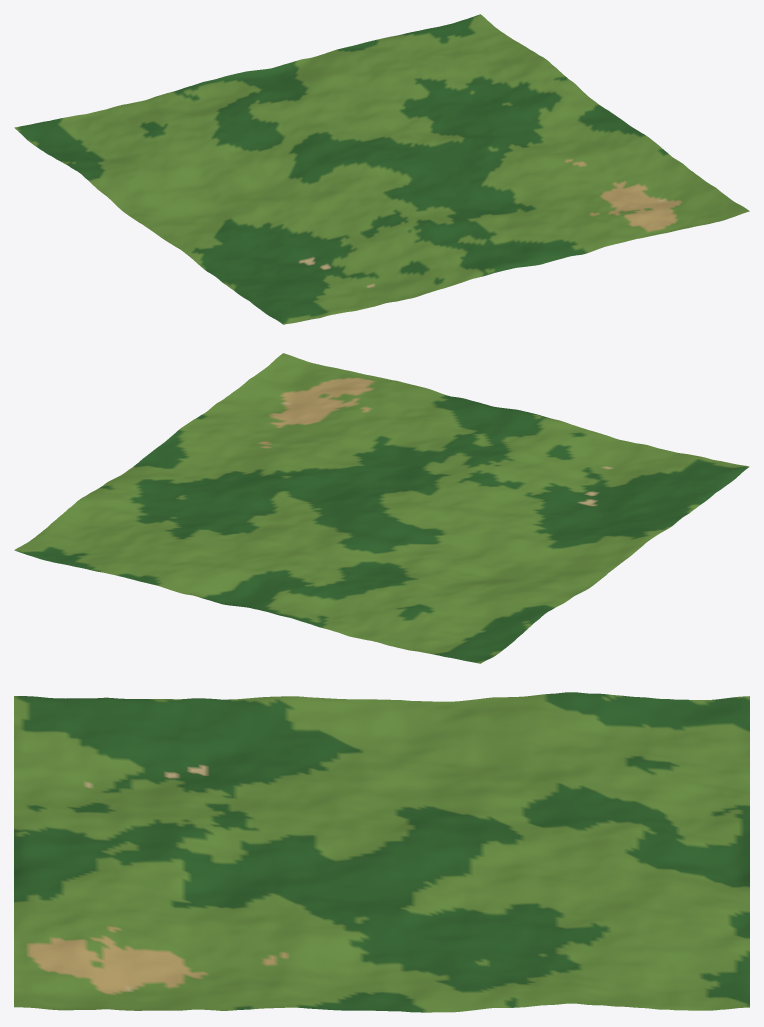
File: terrain.glb
3 renders of one model, top to bottom at view 1: azimuth 30°, elevation 25°; view 2: azimuth 150°, elevation 25°; view 3: azimuth 270°, elevation 25°, orthographic. The views are drawn at different scales.
Parts seen in each view (by area): view 1: terrain; view 2: terrain; view 3: terrain.
Boxes of the visible parts, x1,y1,x2,y2 form: terrain: (14,14,749,324); terrain: (14,353,749,663); terrain: (14,692,749,1012).
Bounding box in the file's own units: 1024 × 29.62 × 1024.
